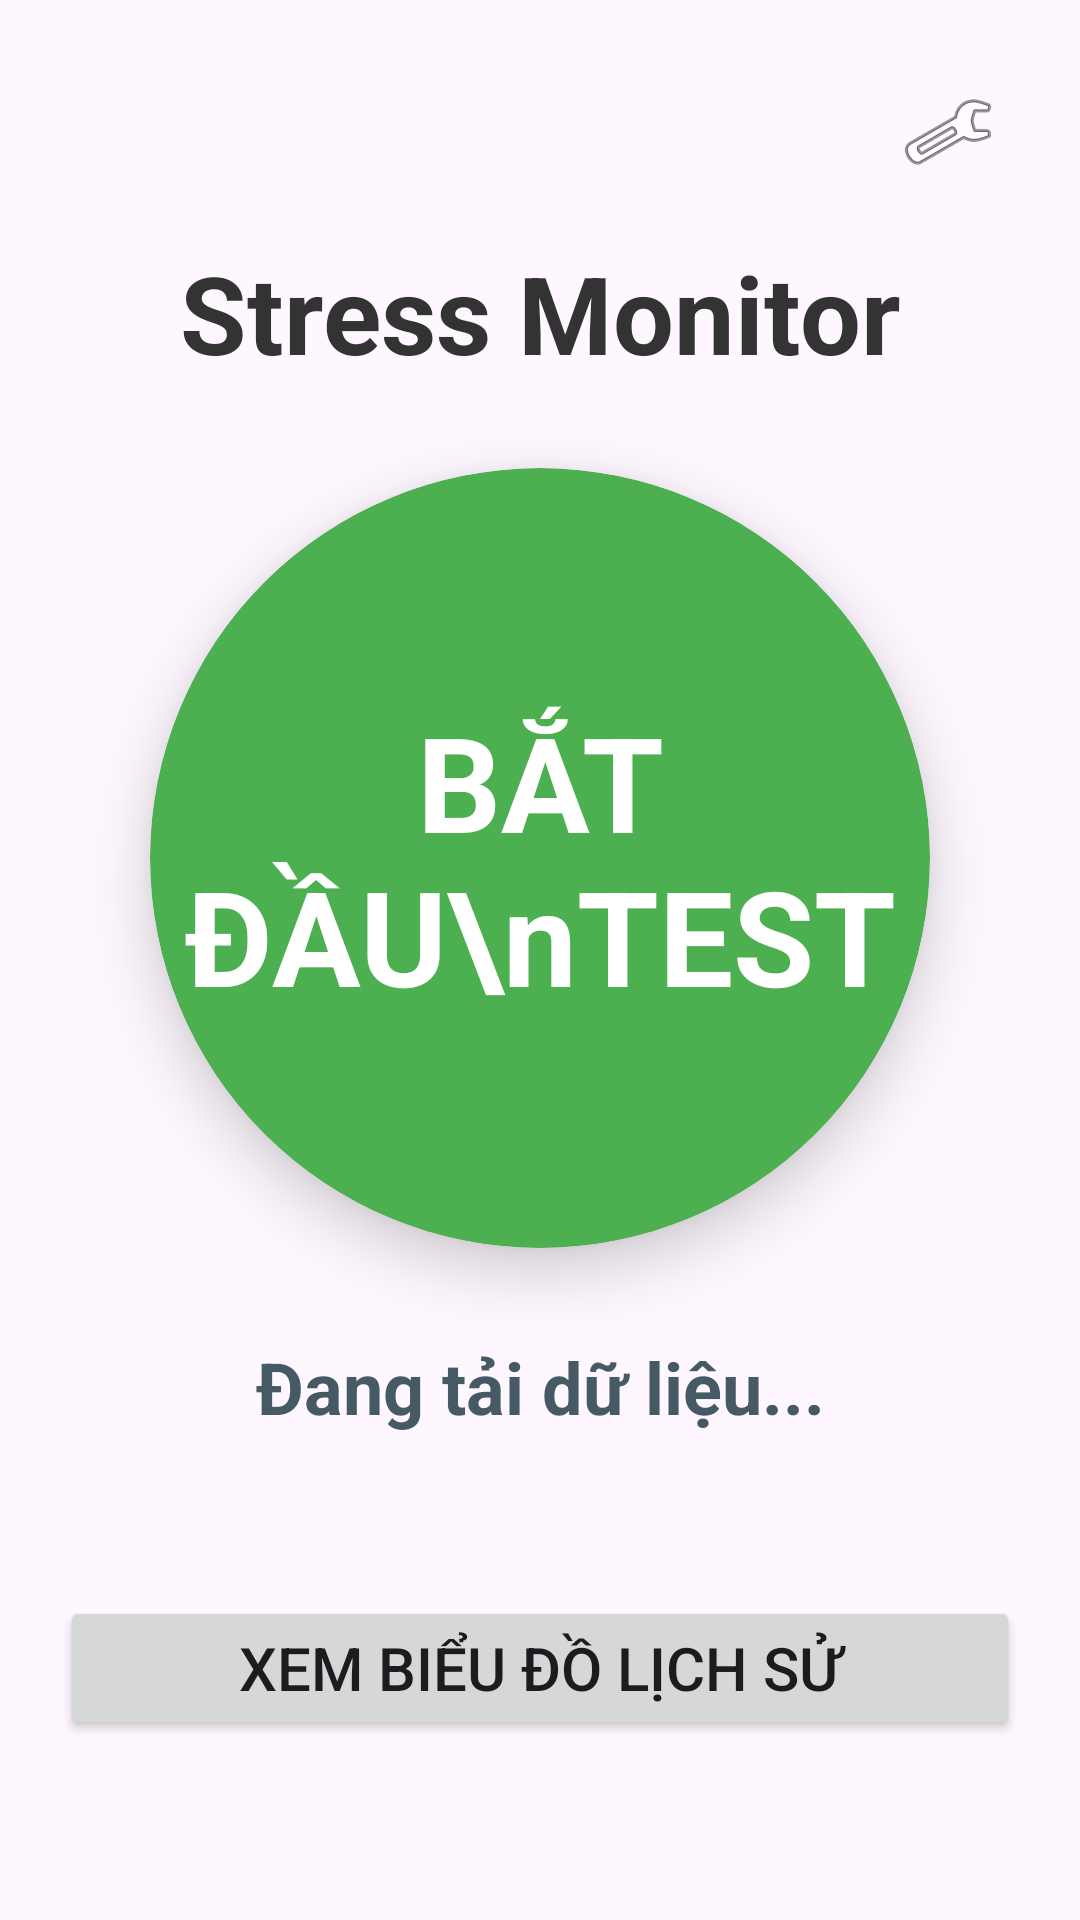

Locate icon controls on the screen. Image size 1080×1920, boxes as BBox(x1, y1, x2, y2).
preferences: BBox(905, 99, 991, 165)
